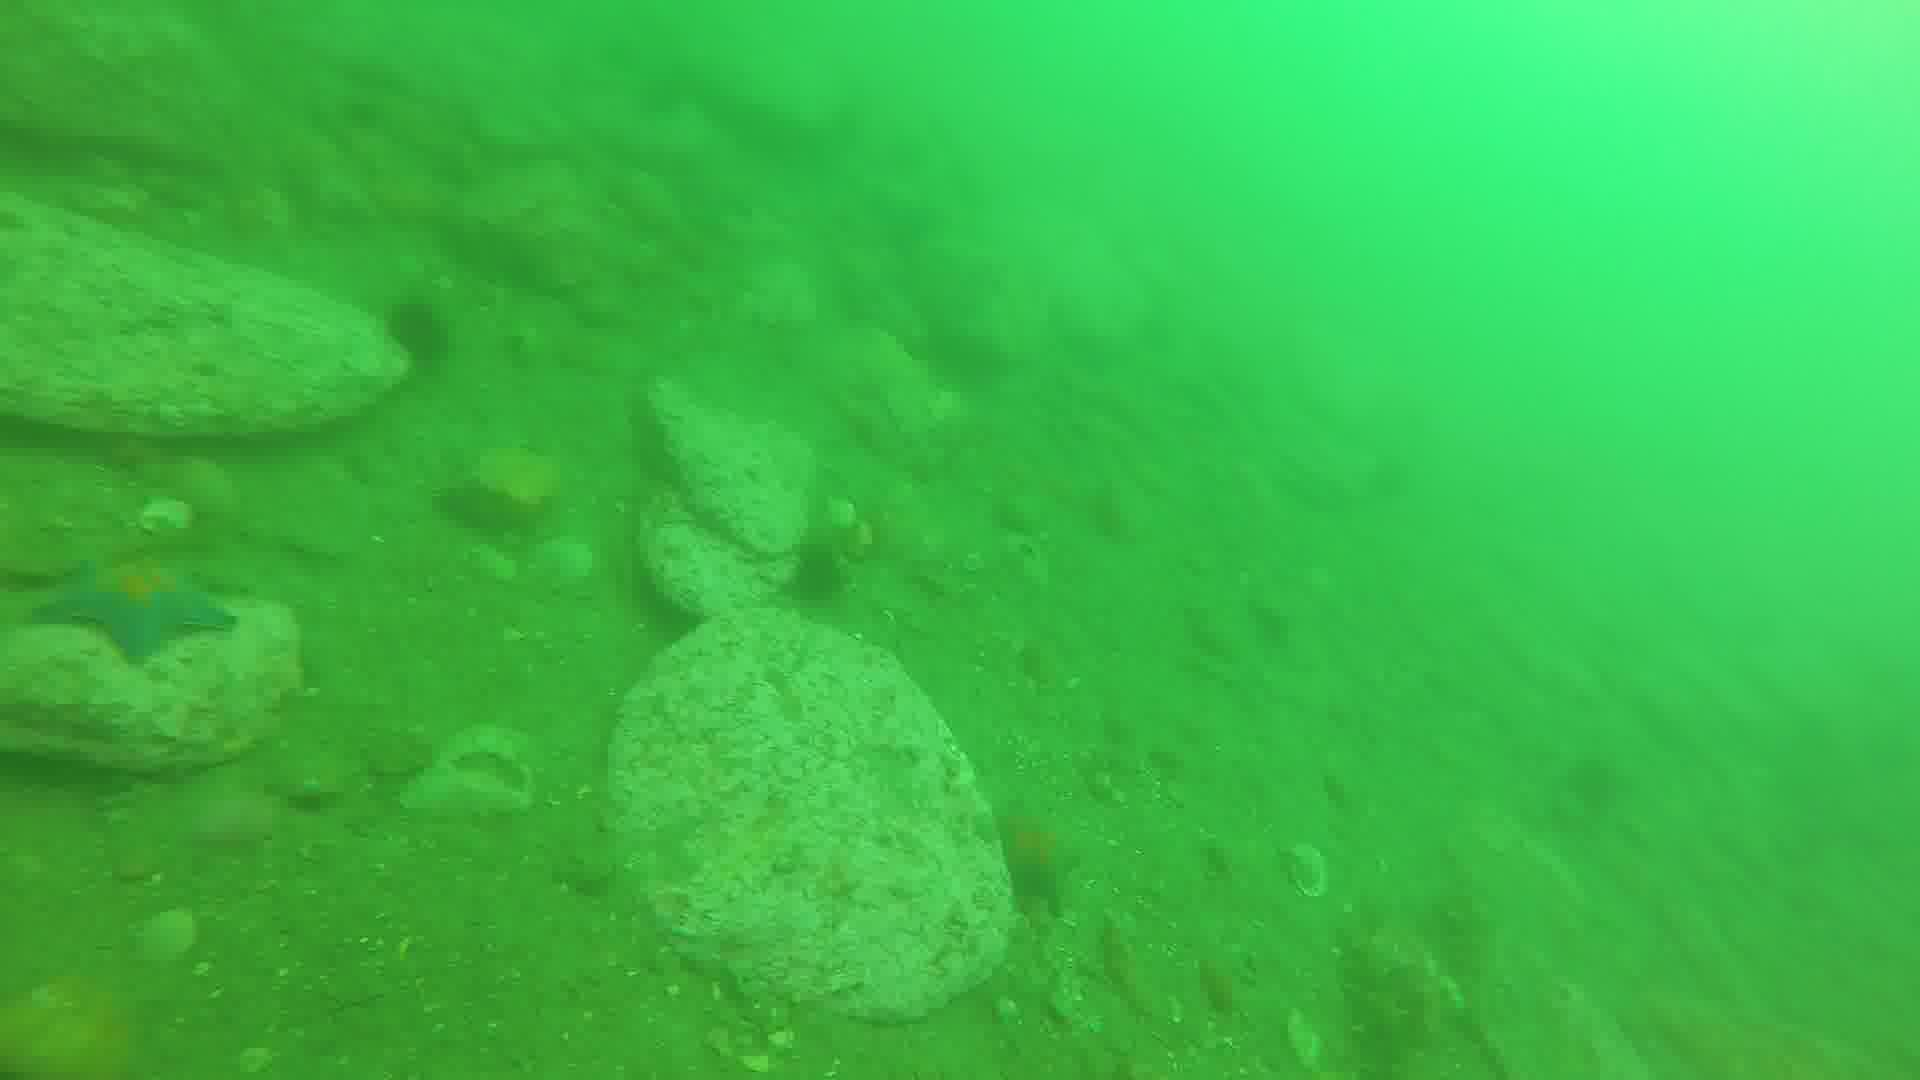echinus: (392, 298, 459, 375)
holothurian: (1331, 931, 1414, 1080)
starfish: (32, 563, 233, 663), (975, 795, 1087, 920)
